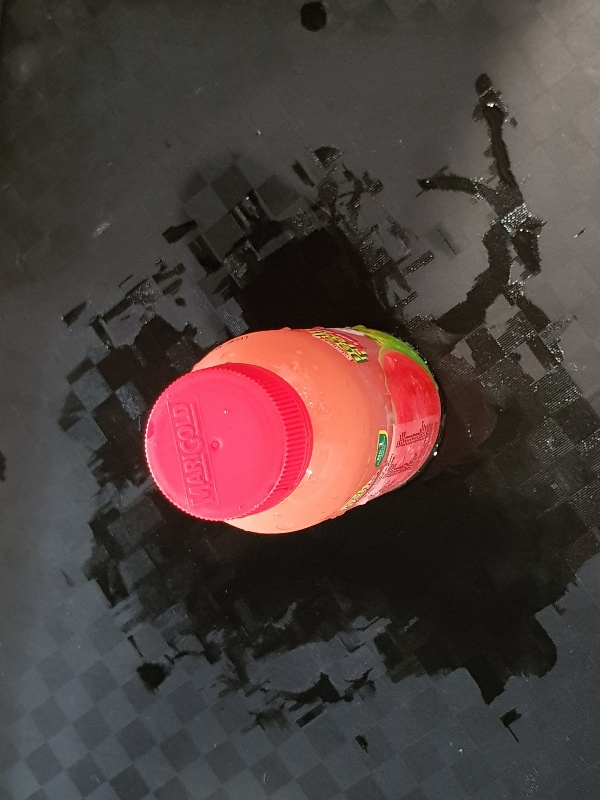Marigold Peel Fresh Pink Guava Juice Drink: (142, 326, 441, 537)
